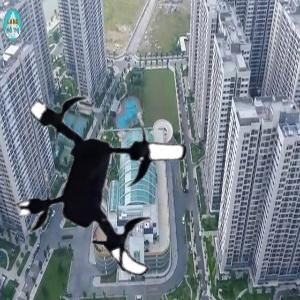drone: (4, 79, 212, 287)
